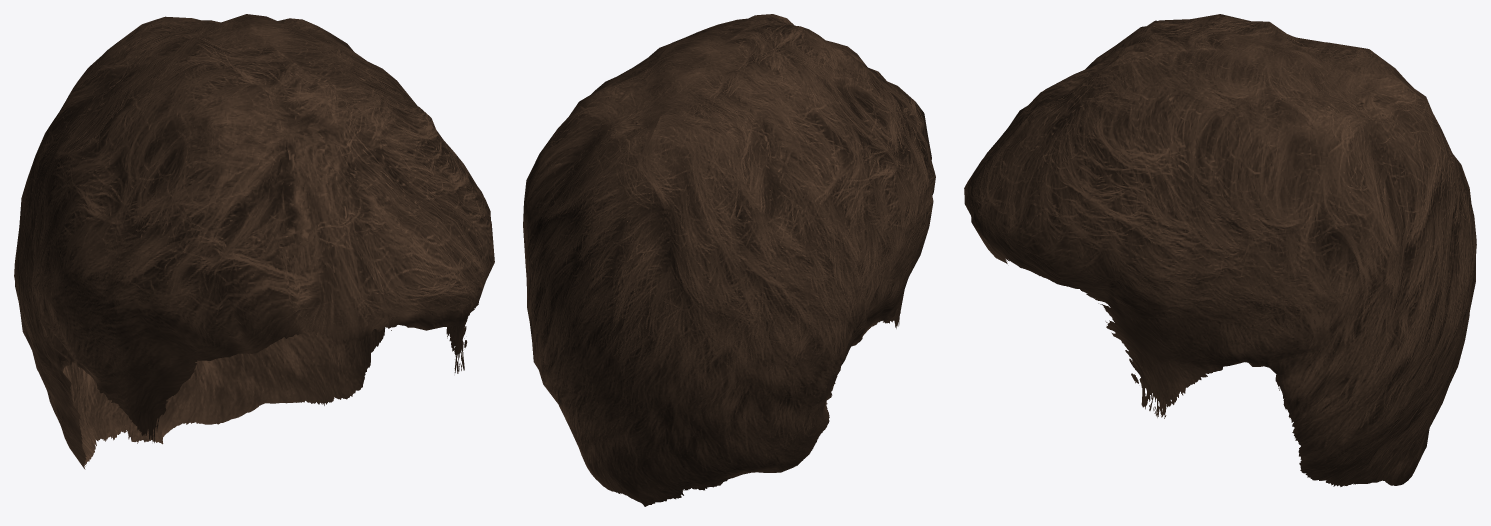
The model's file is hair_short02.glb.
The picture shows the model from 3 angles, left to right: view 1: azimuth 30°, elevation 25°; view 2: azimuth 150°, elevation 25°; view 3: azimuth 270°, elevation 25°; orthographic projection. The views are drawn at different scales.
Visible parts, largest first — view 1: Hair_short02; view 2: Hair_short02; view 3: Hair_short02.
Part boxes in pixels (x1,y1,x2,y2): Hair_short02: [14, 14, 494, 469]; Hair_short02: [523, 14, 935, 506]; Hair_short02: [964, 14, 1476, 486].
Size of the model in its own units: 0.1741 by 0.2066 by 0.2183.
1 material, 1 textured.
